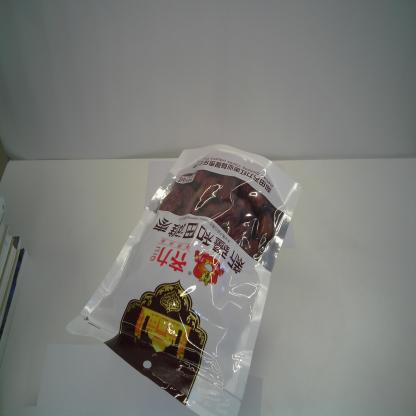Dried Food: (63, 139, 303, 416)
